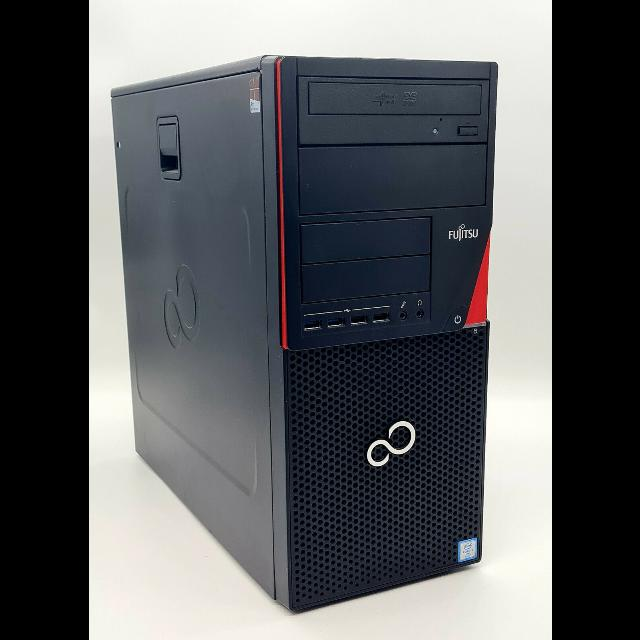Desktop-PC: (106, 51, 492, 616)
